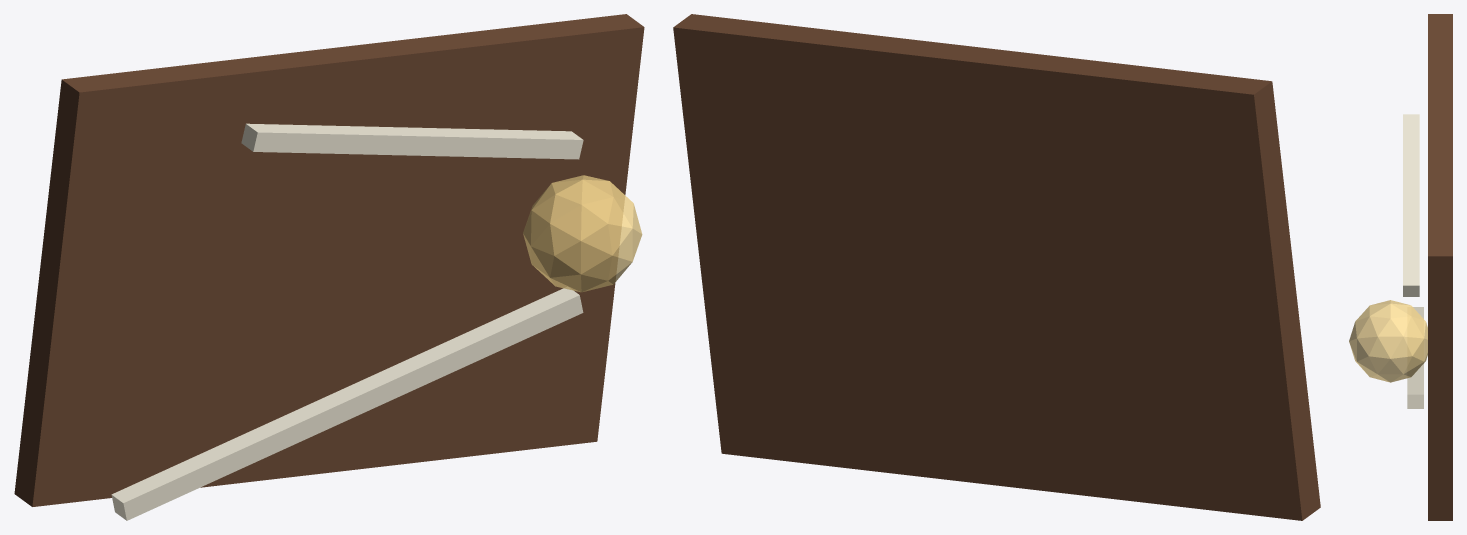
Rendered from 02_world_prop_polish.glb.
3 views of the same model, side by side, from view 1: azimuth 30°, elevation 25°; view 2: azimuth 150°, elevation 25°; view 3: azimuth 270°, elevation 25° (orthographic). The views are drawn at different scales.
Visible parts, largest first — view 1: object_overlay_plate, edge_wear_a, glow_socket, edge_wear_b; view 2: object_overlay_plate; view 3: object_overlay_plate, glow_socket, edge_wear_b, edge_wear_a.
Boxes of the visible parts, x1=… form: object_overlay_plate: x1=14, y1=14, x2=644, y2=506; edge_wear_a: x1=111, y1=287, x2=583, y2=520; glow_socket: x1=523, y1=175, x2=642, y2=292; edge_wear_b: x1=241, y1=123, x2=583, y2=159; object_overlay_plate: x1=673, y1=14, x2=1320, y2=520; object_overlay_plate: x1=1428, y1=14, x2=1452, y2=520; glow_socket: x1=1349, y1=300, x2=1427, y2=382; edge_wear_b: x1=1403, y1=114, x2=1419, y2=296; edge_wear_a: x1=1407, y1=307, x2=1423, y2=408.
Bounding box in the file's own units: 1.18 × 0.8781 × 0.25.
